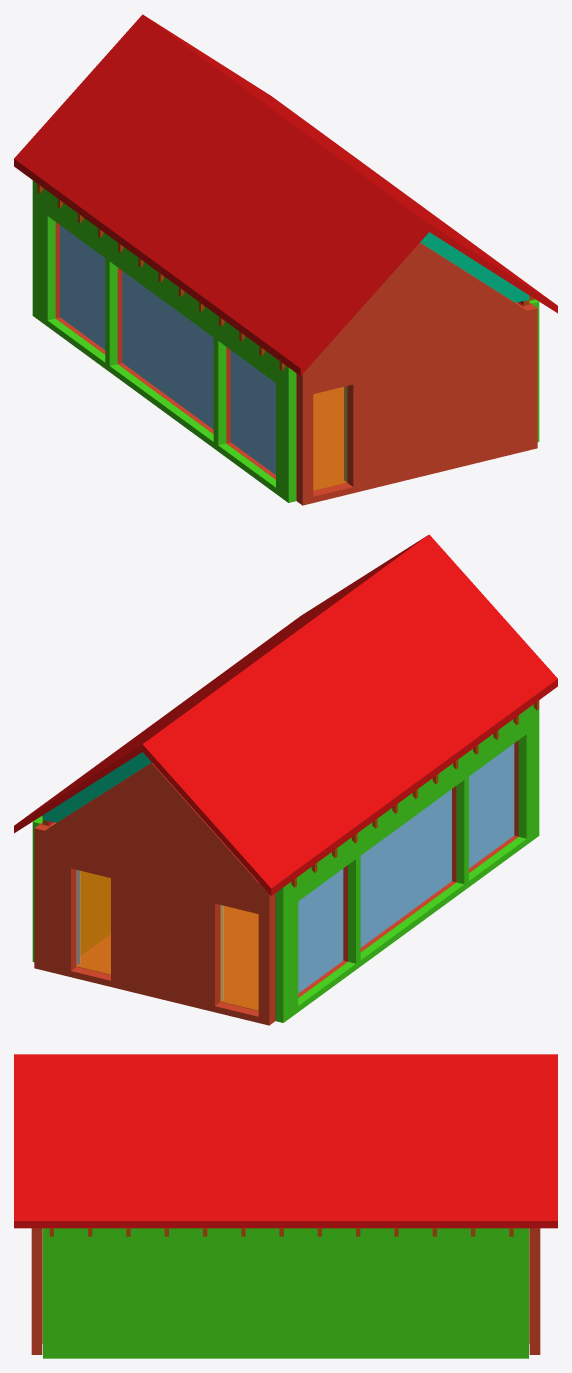
File: obyvak.glb
3 renders of one model, top to bottom at view 1: azimuth 30°, elevation 25°; view 2: azimuth 150°, elevation 25°; view 3: azimuth 270°, elevation 25°, orthographic. The views are drawn at different scales.
Visible parts, largest first — view 1: roofing, masonry (×2), eps, glazing (×3), floor, plenum_wool; view 2: roofing, masonry (×2), glazing (×3), eps, floor, furniture, plenum_wool; view 3: roofing, eps, masonry (×2).
Boxes of the visible parts, x1,y1,x2,y2 form: roofing: [14, 14, 557, 376]; masonry (×2): [55, 222, 537, 505]; eps: [32, 180, 296, 502]; glazing (×3): [60, 225, 275, 474]; floor: [313, 387, 346, 490]; plenum_wool: [420, 232, 529, 302]; roofing: [14, 534, 557, 896]; masonry (×2): [34, 740, 518, 1025]; glazing (×3): [298, 743, 514, 993]; eps: [275, 704, 539, 1022]; floor: [77, 906, 258, 1010]; furniture: [80, 871, 110, 955]; plenum_wool: [42, 752, 151, 822]; roofing: [14, 1054, 557, 1228]; eps: [43, 1228, 528, 1358]; masonry (×2): [31, 1228, 540, 1354].
Bounding box in the file's own units: 6.44 × 6.21 × 12.43.
